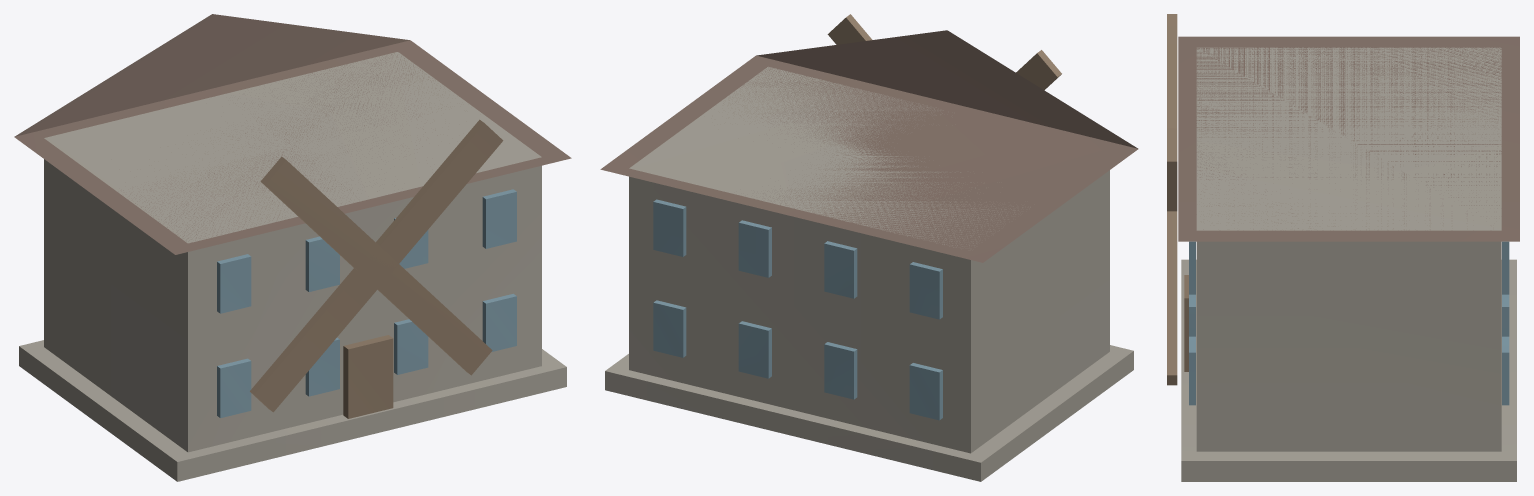
Rendered from windmill-07.glb.
The picture shows the model from 3 angles, left to right: view 1: azimuth 30°, elevation 25°; view 2: azimuth 150°, elevation 25°; view 3: azimuth 270°, elevation 25°; orthographic projection. The views are drawn at different scales.
Parts seen in each view (by area): view 1: world; view 2: world; view 3: world.
Boxes of the visible parts, bbox=[...] form: world: bbox=[14, 14, 571, 481]; world: bbox=[600, 14, 1138, 481]; world: bbox=[1167, 14, 1519, 481].
Size of the model in its own units: 1.67 by 1.22 by 1.21.
